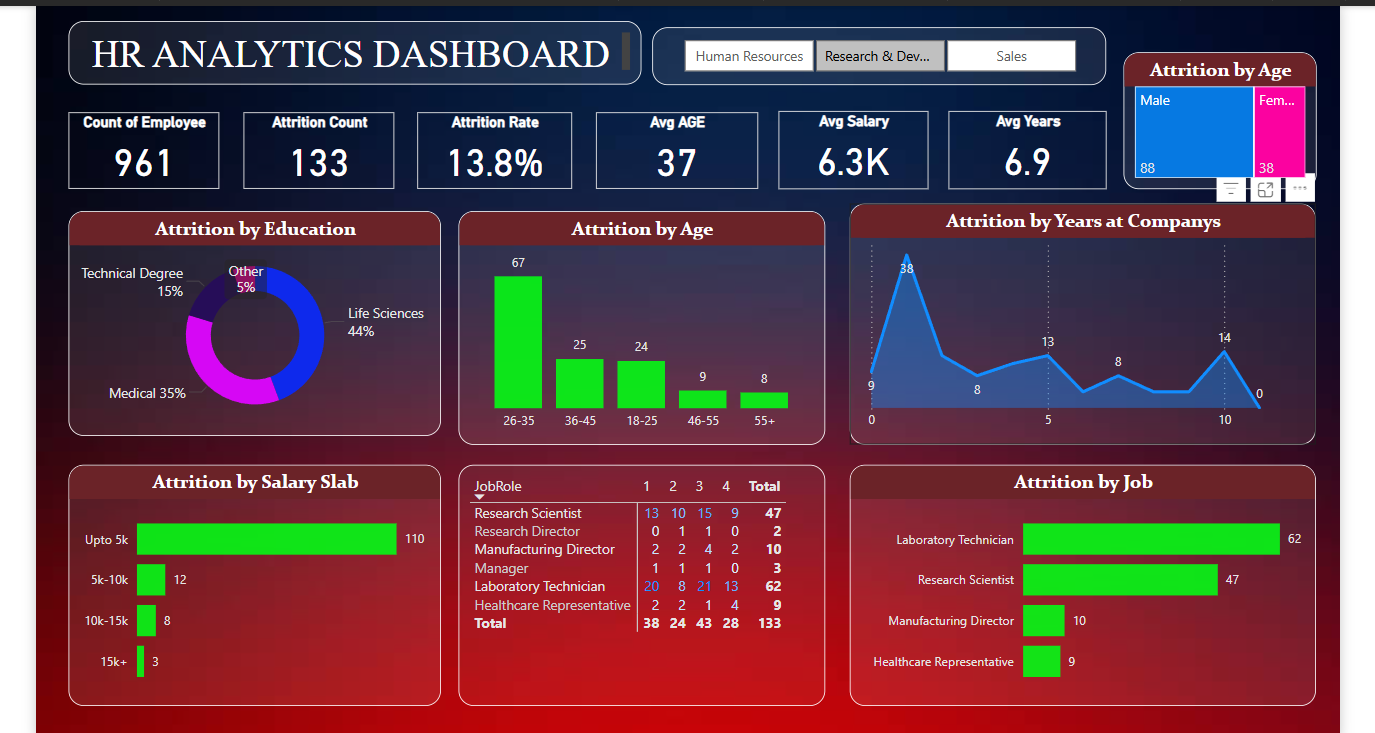

This screenshot's page, from the dashboard's own definition file:
{"tool":"powerbi","page":{"name":"Page 1","canvas":[1280,720],"ordinal":0},"visuals":[{"type":"card","title":"Count of Employee","fields":{"Values":["CountNonNull(HR_Analytics.EmpID)"]},"box":[31.8,104.7,148.2,75.3],"z":0},{"type":"card","title":"Avg AGE","fields":{"Values":["Avg(HR_Analytics.Age)"]},"box":[549.4,104.7,158.8,75.3],"z":1000},{"type":"card","title":"Attrition Rate","fields":{"Values":["HR_Analytics.AttritionRate"]},"box":[374.1,104.7,151.8,75.3],"z":2000},{"type":"card","title":"Attrition Count","fields":{"Values":["Sum(HR_Analytics.Attrition_Count)"]},"box":[203.5,104.7,148.2,75.3],"z":3000},{"type":"card","title":"Avg Salary","fields":{"Values":["Avg(HR_Analytics.MonthlyIncome)"]},"box":[729.4,103.5,147.1,76.5],"z":4000},{"type":"card","title":"Avg Years","fields":{"Values":["Avg(HR_Analytics.YearsAtCompany)"]},"box":[895.3,103.5,155.3,76.5],"z":5000},{"type":"donutChart","title":"Attrition by Education","fields":{"Category":["HR_Analytics.EducationField"],"Y":["Sum(HR_Analytics.AttritionCount)"]},"box":[31.8,201.2,365.9,221.2],"z":6000},{"type":"columnChart","title":"Attrition by Age","fields":{"Category":["HR_Analytics.AgeGroup"],"Y":["Sum(HR_Analytics.AttritionCount)"]},"box":[414.1,201.2,360,229.4],"z":7000},{"type":"pivotTable","fields":{"Rows":["HR_Analytics.JobRole"],"Columns":["HR_Analytics.JobSatisfaction"],"Values":["Sum(HR_Analytics.AttritionCount)"]},"box":[414.1,450.6,360,236.5],"z":8000},{"type":"barChart","title":"Attrition by Salary Slab","fields":{"Category":["HR_Analytics.SalarySlab"],"Y":["Sum(HR_Analytics.AttritionCount)"]},"box":[31.8,450.6,365.9,236.5],"z":9000},{"type":"barChart","title":"Attrition by Job","fields":{"Category":["HR_Analytics.JobRole"],"Y":["Sum(HR_Analytics.AttritionCount)"]},"box":[798.8,450.6,457.6,236.5],"z":10000},{"type":"areaChart","title":"Attrition by Years at Companys","fields":{"Category":["HR_Analytics.YearsAtCompany"],"Y":["Sum(HR_Analytics.AttritionCount)"]},"box":[798.8,194.1,457.6,236.5],"z":11000},{"type":"treemap","title":"Attrition by Age","fields":{"Group":["HR_Analytics.Gender"],"Values":["Sum(HR_Analytics.AttritionCount)"]},"box":[1067.1,45.9,189.4,134.1],"z":12000},{"type":"slicer","fields":{"Values":["HR_Analytics.Department"]},"box":[604.7,21.2,445.9,56.5],"z":13000},{"type":"textbox","box":[31.8,15.3,562.4,62.4],"z":14000}]}

Visuals, with their boxes on the page's 1280x720 design canvas (x1, y1, x2, y2). These are canvas units, not pixel positions in the 1375x733 screenshot, which may show the page scaled, cropped or inside an application window:
"Count of Employee" card: [left=32, top=105, right=180, bottom=180]
"Avg AGE" card: [left=549, top=105, right=708, bottom=180]
"Attrition Rate" card: [left=374, top=105, right=526, bottom=180]
"Attrition Count" card: [left=204, top=105, right=352, bottom=180]
"Avg Salary" card: [left=729, top=104, right=876, bottom=180]
"Avg Years" card: [left=895, top=104, right=1051, bottom=180]
"Attrition by Education" donutChart: [left=32, top=201, right=398, bottom=422]
"Attrition by Age" columnChart: [left=414, top=201, right=774, bottom=431]
pivotTable - HR_Analytics.JobRole x HR_Analytics.JobSatisfaction: [left=414, top=451, right=774, bottom=687]
"Attrition by Salary Slab" barChart: [left=32, top=451, right=398, bottom=687]
"Attrition by Job" barChart: [left=799, top=451, right=1256, bottom=687]
"Attrition by Years at Companys" areaChart: [left=799, top=194, right=1256, bottom=431]
"Attrition by Age" treemap: [left=1067, top=46, right=1256, bottom=180]
slicer - HR_Analytics.Department: [left=605, top=21, right=1051, bottom=78]
textbox: [left=32, top=15, right=594, bottom=78]
